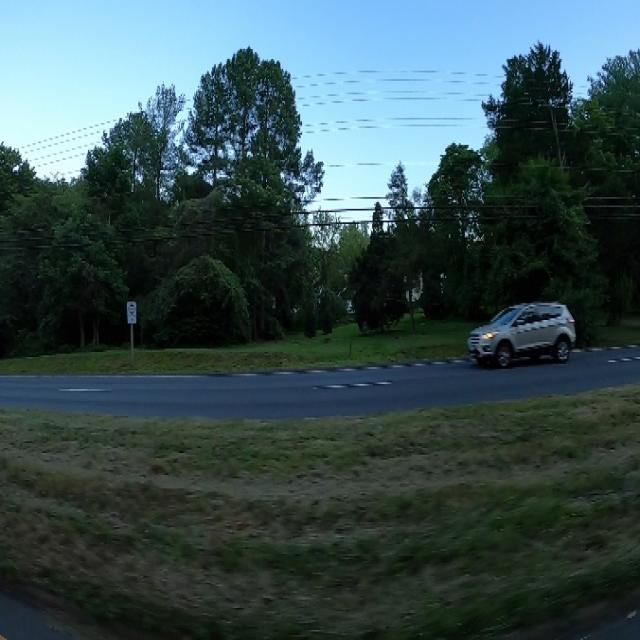car: (461, 290, 583, 384)
